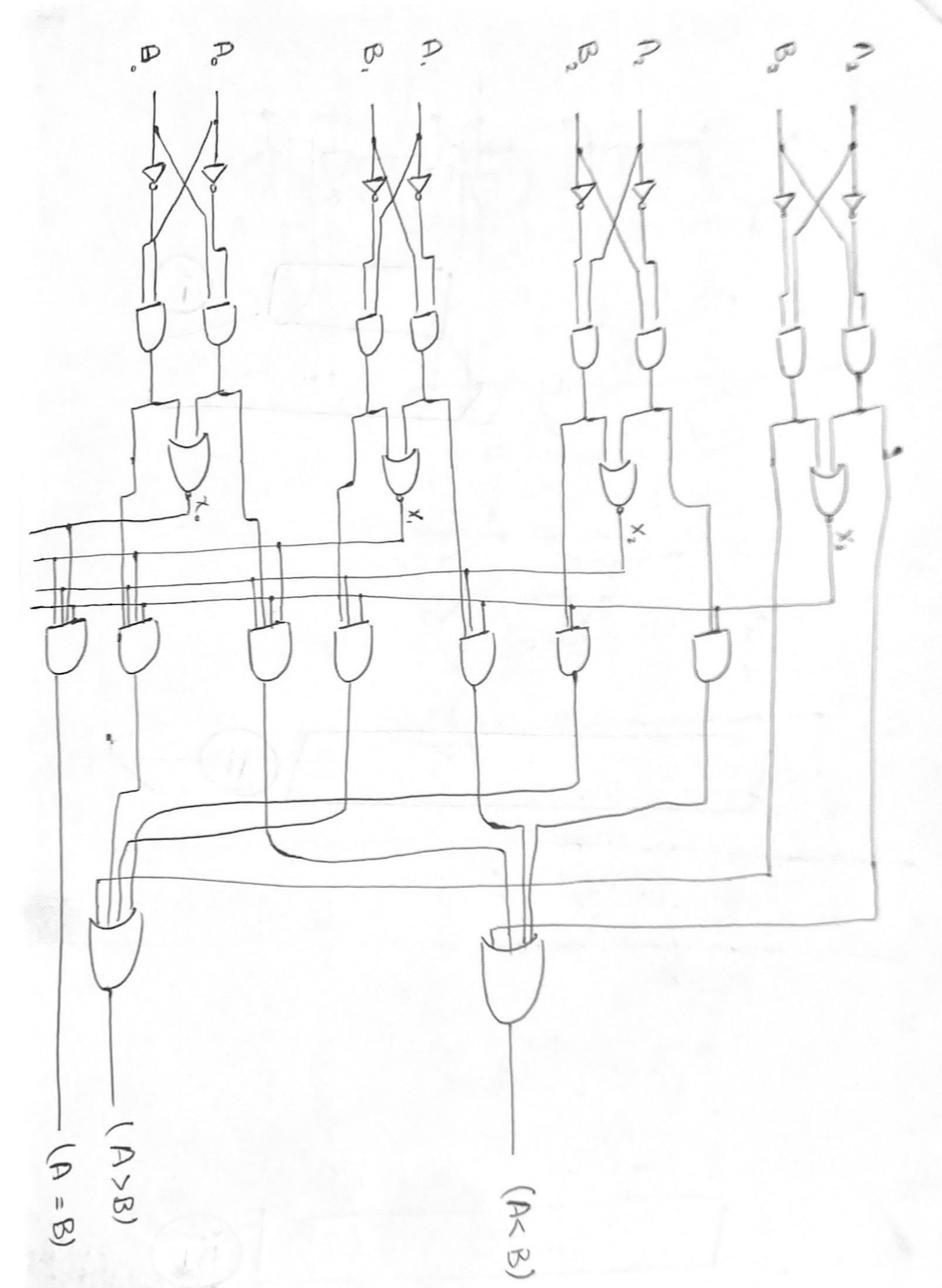AND: (763, 314, 823, 401), (832, 312, 895, 387), (112, 293, 178, 361), (241, 610, 297, 688), (35, 614, 95, 684), (194, 294, 261, 355), (686, 627, 744, 694), (449, 623, 504, 693), (549, 621, 604, 691), (328, 606, 375, 686), (111, 608, 163, 676), (404, 303, 458, 363), (628, 320, 677, 383), (349, 298, 396, 363), (566, 319, 611, 379)
NOR: (164, 423, 216, 505), (804, 449, 856, 523), (377, 440, 423, 510), (598, 449, 638, 516)
NOT: (622, 176, 666, 212), (193, 158, 233, 196), (562, 180, 602, 216), (136, 156, 172, 196), (358, 170, 394, 208), (836, 189, 872, 225), (405, 171, 444, 204), (765, 191, 802, 219)
OR: (472, 927, 575, 1050), (79, 904, 166, 1004)
